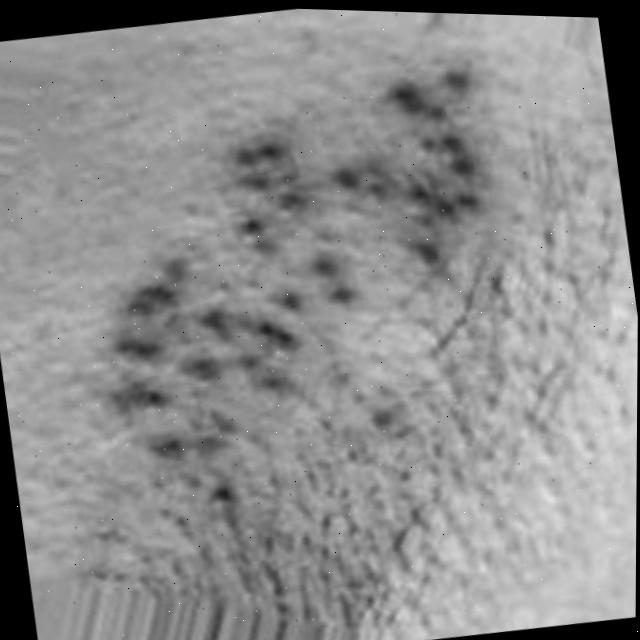Shingles: (76, 73, 523, 523)
